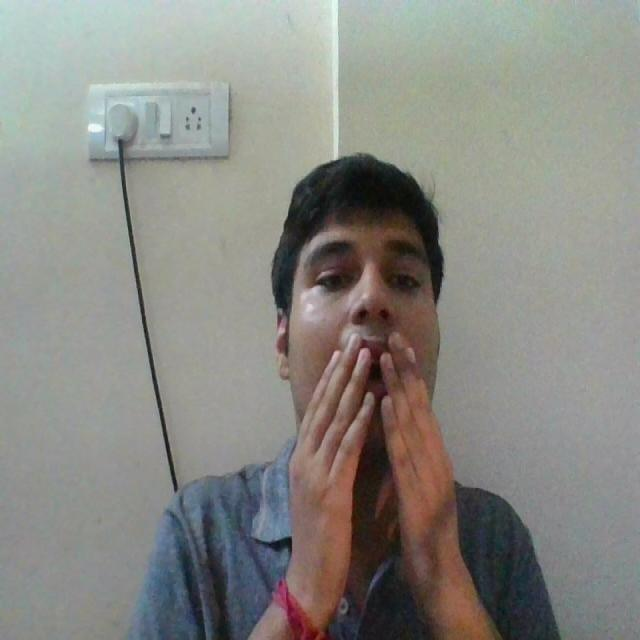Thanks: (280, 286, 500, 640)
